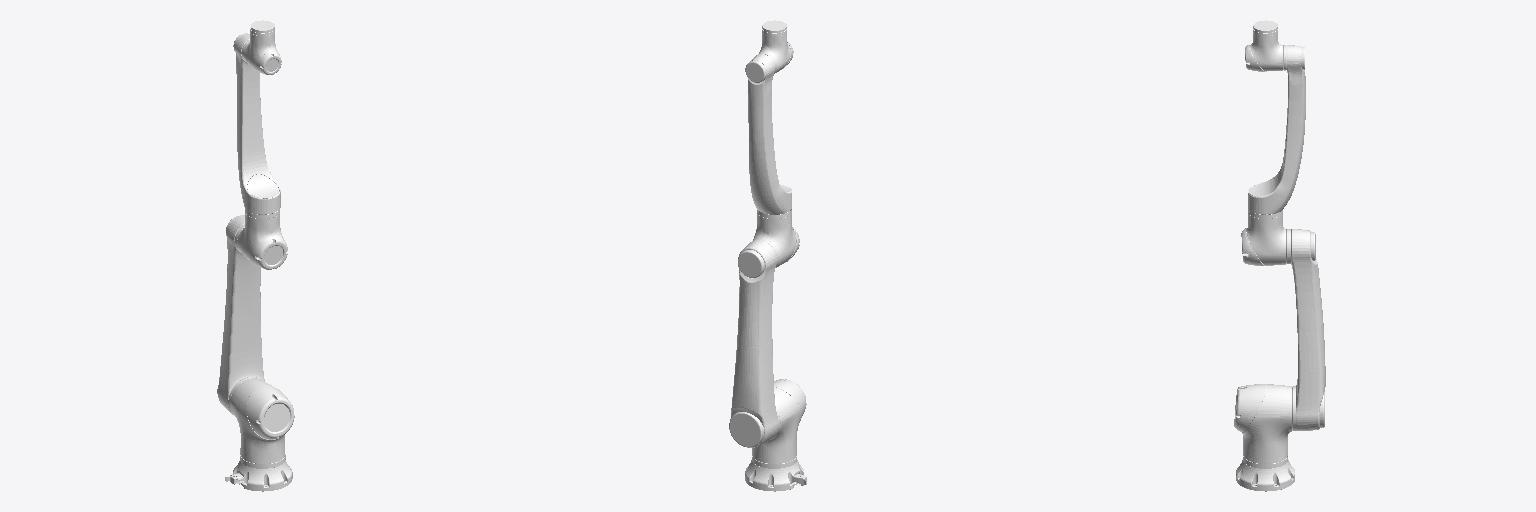
URDF robot description (lara8):
<?xml version="1.0" encoding="utf-8"?>
<!-- =================================================================================== -->
<!-- |    This document was autogenerated by xacro from lara8.urdf.xacro               | -->
<!-- |    EDITING THIS FILE BY HAND IS NOT RECOMMENDED                                 | -->
<!-- =================================================================================== -->
<robot name="lara8" xmlns:controller="http://playerstage.sourceforge.net/gazebo/xmlschema/#controller" xmlns:interface="http://playerstage.sourceforge.net/gazebo/xmlschema/#interface" xmlns:sensor="http://playerstage.sourceforge.net/gazebo/xmlschema/#sensor">
  <!-- values not correct. 12/05/2022 heitmann-->
  <material name="white">
    <color rgba="1.0 1.0 1.0 1.0"/>
  </material>
  <!-- values not correct. 12/05/2022 heitmann-->
  <!-- ============================ BASE ================================= -->
  <link name="lara8_root_link">
  </link>
  <joint name="lara8_root_joint" type="fixed">
    <origin rpy="0 -1.57079632679 0" xyz="0 0 0"/>
    <axis xyz="0 0 1"/>
    <parent link="lara8_root_link"/>
    <child link="lara8_link0"/>
  </joint>
  <link name="lara8_link0">
    <inertial>
      <mass value="2.133"/>
      <origin rpy="0 0 0" xyz="0.0 0.0 0.0"/>
      <inertia ixx="0.0" ixy="0.0" ixz="0.0" iyy="0.0" iyz="0.0" izz="0.0"/>
    </inertial>
    <visual>
      <origin rpy="0 0 0" xyz="0 0 0"/>
      <geometry>
        <mesh filename="package://robot_description/lara8/meshes/Link0_body.stl"/>
      </geometry>
      <material name="white"/>
    </visual>
    <visual>
      <origin rpy="0 0 0" xyz="0 0 0"/>
      <geometry>
        <mesh filename="package://robot_description/lara8/meshes/Link0_connector.stl"/>
      </geometry>
      <material name="white"/>
    </visual>
    <collision>
      <origin rpy="0 0 0" xyz="0 0 0"/>
      <geometry>
        <mesh filename="package://robot_description/lara8/collision/Link0_body.stl"/>
      </geometry>
      <material name="white"/>
    </collision>
  </link>
  <!-- ============================ DOF1 ================================= -->
  <joint name="lara8_joint1" type="revolute">
    <origin rpy="0 0 1.57079632679" xyz="0.26 0 0"/>
    <axis xyz="0 -1 0"/>
    <limit effort="204" lower="-3.14159" upper="3.14159" velocity="3.14159"/>
    <parent link="lara8_link0"/>
    <child link="lara8_link1"/>
  </joint>
  <link name="lara8_link1">
    <inertial>
      <mass value="16.083"/>
      <origin rpy="0 0 0" xyz="0.025552 0.064396 1.7e-05"/>
      <inertia ixx="0.123048" ixy="0.026103" ixz="1.3e-05" iyy="0.065328" iyz="7e-06" izz="0.140519"/>
    </inertial>
    <visual>
      <origin rpy="0 0 0" xyz="0 0 0"/>
      <geometry>
        <mesh filename="package://robot_description/lara8/meshes/Link1_body.stl"/>
      </geometry>
      <material name="white"/>
    </visual>
    <visual>
      <origin rpy="0 0 0" xyz="0 0 0"/>
      <geometry>
        <mesh filename="package://robot_description/lara8/meshes/Link1_rings.stl"/>
      </geometry>
      <material name="white"/>
    </visual>
    <collision>
      <origin rpy="0 0 0" xyz="0 0 0"/>
      <geometry>
        <mesh filename="package://robot_description/lara8/collision/Link1_body.stl"/>
      </geometry>
      <material name="white"/>
    </collision>
  </link>
  <!-- ============================ DOF2 ================================= -->
  <joint name="lara8_joint2" type="revolute">
    <origin rpy="0 0 -4.89652762781e-12" xyz="0 0 0"/>
    <axis xyz="1 0 0"/>
    <limit effort="204" lower="-2.3492" upper="2.3492" velocity="2.3492"/>
    <parent link="lara8_link1"/>
    <child link="lara8_link2"/>
  </joint>
  <link name="lara8_link2">
    <inertial>
      <mass value="9.105"/>
      <origin rpy="0 0 0" xyz="0.143433 -0.2625 -5e-06"/>
      <inertia ixx="0.161953" ixy="-0.006786" ixz="3e-06" iyy="0.013421" iyz="3.9e-05" izz="0.157807"/>
    </inertial>
    <visual>
      <origin rpy="0 0 0" xyz="0 0 0"/>
      <geometry>
        <mesh filename="package://robot_description/lara8/meshes/Link2_body.stl"/>
      </geometry>
      <material name="white"/>
    </visual>
    <collision>
      <origin rpy="0 0 0" xyz="0 0 0"/>
      <geometry>
        <mesh filename="package://robot_description/lara8/collision/Link2_body.stl"/>
      </geometry>
      <material name="white"/>
    </collision>
  </link>
  <!-- ============================ DOF3 ================================= -->
  <joint name="lara8_joint3" type="revolute">
    <origin rpy="0 0 0" xyz="0 -0.6 0"/>
    <axis xyz="1 0 0"/>
    <limit effort="107" lower="-2.6093" upper="2.6093" velocity="2.6093"/>
    <parent link="lara8_link2"/>
    <child link="lara8_link3"/>
  </joint>
  <link name="lara8_link3">
    <inertial>
      <mass value="8.488"/>
      <origin rpy="0 0 0" xyz="0.0219 -0.056489 2.6e-05"/>
      <inertia ixx="0.038915" ixy="-0.008924" ixz="-4e-06" iyy="0.021874" iyz="7e-06" izz="0.046158"/>
    </inertial>
    <visual>
      <origin rpy="0 0 0" xyz="0 0 0"/>
      <geometry>
        <mesh filename="package://robot_description/lara8/meshes/Link3_body.stl"/>
      </geometry>
      <material name="white"/>
    </visual>
    <visual>
      <origin rpy="0 0 0" xyz="0 0 0"/>
      <geometry>
        <mesh filename="package://robot_description/lara8/meshes/Link3_rings.stl"/>
      </geometry>
      <material name="white"/>
    </visual>
    <collision>
      <origin rpy="0 0 0" xyz="0 0 0"/>
      <geometry>
        <mesh filename="package://robot_description/lara8/collision/Link3_body.stl"/>
      </geometry>
      <material name="white"/>
    </collision>
  </link>
  <!-- ============================ DOF4 ================================= -->
  <joint name="lara8_joint4" type="revolute">
    <origin rpy="0 0 4.89652762781e-12" xyz="0 0 0"/>
    <axis xyz="0 -1 0"/>
    <limit effort="107" lower="-3.14159" upper="3.14159" velocity="3.14159"/>
    <parent link="lara8_link3"/>
    <child link="lara8_link4"/>
  </joint>
  <link name="lara8_link4">
    <inertial>
      <mass value="4.292"/>
      <origin rpy="0 0 0" xyz="0.06533 -0.415917 -8e-06"/>
      <inertia ixx="0.038962" ixy="0.009627" ixz="2e-06" iyy="0.008425" iyz="5e-06" izz="0.042366"/>
    </inertial>
    <visual>
      <origin rpy="0 0 0" xyz="0 0 0"/>
      <geometry>
        <mesh filename="package://robot_description/lara8/meshes/Link4_body.stl"/>
      </geometry>
      <material name="white"/>
    </visual>
    <collision>
      <origin rpy="0 0 0" xyz="0 0 0"/>
      <geometry>
        <mesh filename="package://robot_description/lara8/collision/Link4_body.stl"/>
      </geometry>
      <material name="white"/>
    </collision>
  </link>
  <!-- ============================ DOF5 ================================= -->
  <joint name="lara8_joint5" type="revolute">
    <origin rpy="0 0 -4.89652762781e-12" xyz="0 -0.7 0"/>
    <axis xyz="1 0 0"/>
    <limit effort="36" lower="-3.14159" upper="3.14159" velocity="3.14159"/>
    <parent link="lara8_link4"/>
    <child link="lara8_link5"/>
  </joint>
  <link name="lara8_link5">
    <inertial>
      <mass value="3.725"/>
      <origin rpy="0 0 0" xyz="0.017445 -0.047473 1.4e-05"/>
      <inertia ixx="0.009166" ixy="-0.002225" ixz="2e-06" iyy="0.005632" iyz="1e-06" izz="0.011521"/>
    </inertial>
    <visual>
      <origin rpy="0 0 0" xyz="0 0 0"/>
      <geometry>
        <mesh filename="package://robot_description/lara8/meshes/Link5_body.stl"/>
      </geometry>
      <material name="white"/>
    </visual>
    <visual>
      <origin rpy="0 0 0" xyz="0 0 0"/>
      <geometry>
        <mesh filename="package://robot_description/lara8/meshes/Link5_rings.stl"/>
      </geometry>
      <material name="white"/>
    </visual>
    <collision>
      <origin rpy="0 0 0" xyz="0 0 0"/>
      <geometry>
        <mesh filename="package://robot_description/lara8/collision/Link5_body.stl"/>
      </geometry>
      <material name="white"/>
    </collision>
  </link>
  <!-- ============================ DOF6 ================================= -->
  <joint name="lara8_joint6" type="revolute">
    <origin rpy="0 3.14159 0" xyz="0 0 0"/>
    <axis xyz="0 -1 0"/>
    <limit effort="36" lower="-3.14159" upper="3.14159" velocity="3.14159"/>
    <parent link="lara8_link5"/>
    <child link="lara8_link6"/>
  </joint>
  <link name="lara8_link6">
    <inertial>
      <mass value="0.932"/>
      <origin rpy="0 0 0" xyz="0.001157 -0.167273 0.000222"/>
      <inertia ixx="0.000587" ixy="-1.4e-05" ixz="4e-06" iyy="0.000637" iyz="3e-06" izz="0.000622"/>
    </inertial>
    <visual>
      <origin rpy="0 0 0" xyz="0 0 0"/>
      <geometry>
        <mesh filename="package://robot_description/lara8/meshes/Link6_body.stl"/>
      </geometry>
      <material name="white"/>
    </visual>
    <collision>
      <origin rpy="0 0 0" xyz="0 0 0"/>
      <geometry>
        <mesh filename="package://robot_description/lara8/collision/Link6_body.stl"/>
      </geometry>
      <material name="white"/>
    </collision>
  </link>
  <!-- ============================ Flange ================================= -->
  <link name="lara8_flange"/>
  <joint name="lara8_link6_to_flange" type="fixed">
    <origin rpy="1.57079632679 1.57079632679 0" xyz="0 -0.1735 0"/>
    <parent link="lara8_link6"/>
    <child link="lara8_flange"/>
  </joint>
  <link name="world"/>
  <joint name="world_joint" type="fixed">
    <parent link="world"/>
    <child link="lara8_root_link"/>
    <origin rpy="0.0 0.0 0.0" xyz="0.0 0.0 0.0"/>
  </joint>



</robot>

--- Facts derived from the render (not from the file) ---
The picture shows the robot from 3 angles, left to right: view 1: azimuth 30°, elevation 25°; view 2: azimuth 150°, elevation 25°; view 3: azimuth 270°, elevation 25°; orthographic projection.
Model lara8 with 10 links and 9 joints (6 revolute, 3 fixed), rooted at world, posed every joint at zero.
Links seen in each view (by area): view 1: lara8_link2, lara8_link4, lara8_link1, lara8_link3, lara8_link5, lara8_link0; view 2: lara8_link2, lara8_link4, lara8_link1, lara8_link3, lara8_link0, lara8_link5; view 3: lara8_link2, lara8_link1, lara8_link4, lara8_link3, lara8_link5, lara8_link0.
Boxes of the visible links, bbox=[...] form: lara8_link2: bbox=[217, 215, 264, 414]; lara8_link4: bbox=[233, 33, 280, 214]; lara8_link1: bbox=[228, 377, 294, 468]; lara8_link3: bbox=[235, 209, 287, 269]; lara8_link5: bbox=[241, 20, 281, 74]; lara8_link0: bbox=[225, 460, 292, 491]; lara8_link2: bbox=[729, 240, 778, 447]; lara8_link4: bbox=[745, 54, 791, 214]; lara8_link1: bbox=[752, 379, 806, 468]; lara8_link3: bbox=[753, 210, 799, 267]; lara8_link0: bbox=[745, 460, 806, 491]; lara8_link5: bbox=[759, 20, 793, 73]; lara8_link2: bbox=[1291, 229, 1325, 430]; lara8_link1: bbox=[1234, 384, 1295, 468]; lara8_link4: bbox=[1248, 45, 1305, 214]; lara8_link3: bbox=[1241, 209, 1290, 265]; lara8_link5: bbox=[1245, 20, 1286, 71]; lara8_link0: bbox=[1236, 460, 1294, 491].
Size in the robot's own frame: 0.2344 by 0.3066 by 1.68 metres.
10 mesh visuals loaded from 11 distinct referenced files (10 binary STL); not drawn: 1 (reference not matched to a file when rendering).
